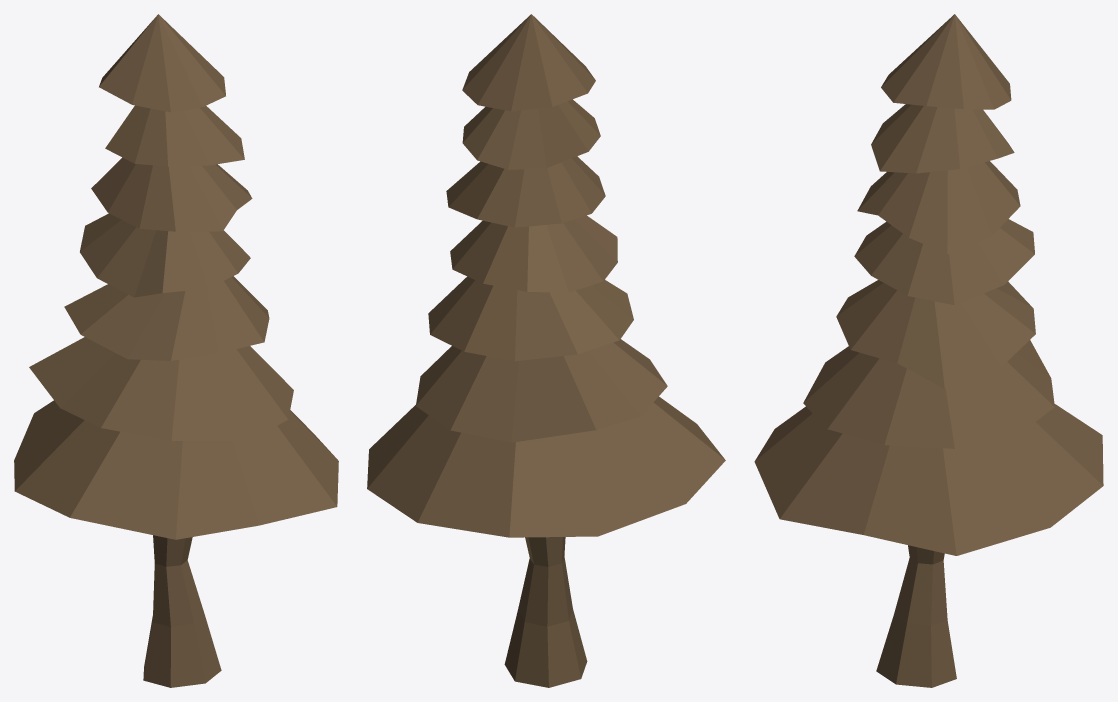
Rendered from lowpolyTree01.fbx.
3 views of the same model, side by side, from view 1: azimuth 30°, elevation 25°; view 2: azimuth 150°, elevation 25°; view 3: azimuth 270°, elevation 25° (orthographic). The views are drawn at different scales.
Parts seen in each view (by area): view 1: Tree01.009, Tree01.010, Tree01.011, Tree01.012, Tree01.013, Tree01.008, Tree01.015, Tree01.014; view 2: Tree01.009, Tree01.010, Tree01.011, Tree01.012, Tree01.008, Tree01.013, Tree01.015, Tree01.014; view 3: Tree01.009, Tree01.010, Tree01.011, Tree01.013, Tree01.012, Tree01.008, Tree01.015, Tree01.014.
Boxes of the visible parts, <box> form: Tree01.009: <box>14,400,338,539</box>; Tree01.010: <box>29,337,293,441</box>; Tree01.011: <box>64,276,269,360</box>; Tree01.012: <box>80,213,250,297</box>; Tree01.013: <box>91,157,252,231</box>; Tree01.008: <box>143,535,221,687</box>; Tree01.015: <box>99,14,225,112</box>; Tree01.014: <box>105,105,244,166</box>; Tree01.009: <box>367,396,725,537</box>; Tree01.010: <box>416,339,667,442</box>; Tree01.011: <box>428,276,633,361</box>; Tree01.012: <box>450,215,617,292</box>; Tree01.008: <box>504,537,587,687</box>; Tree01.013: <box>446,156,605,227</box>; Tree01.015: <box>462,14,595,111</box>; Tree01.014: <box>462,99,600,169</box>; Tree01.009: <box>754,404,1103,555</box>; Tree01.010: <box>803,340,1054,448</box>; Tree01.011: <box>836,280,1035,388</box>; Tree01.013: <box>857,161,1020,253</box>; Tree01.012: <box>854,219,1034,305</box>; Tree01.008: <box>876,545,956,687</box>; Tree01.015: <box>881,14,1011,109</box>; Tree01.014: <box>871,104,1014,173</box>.
Bounding box in the file's own units: 596 × 1220 × 586.
